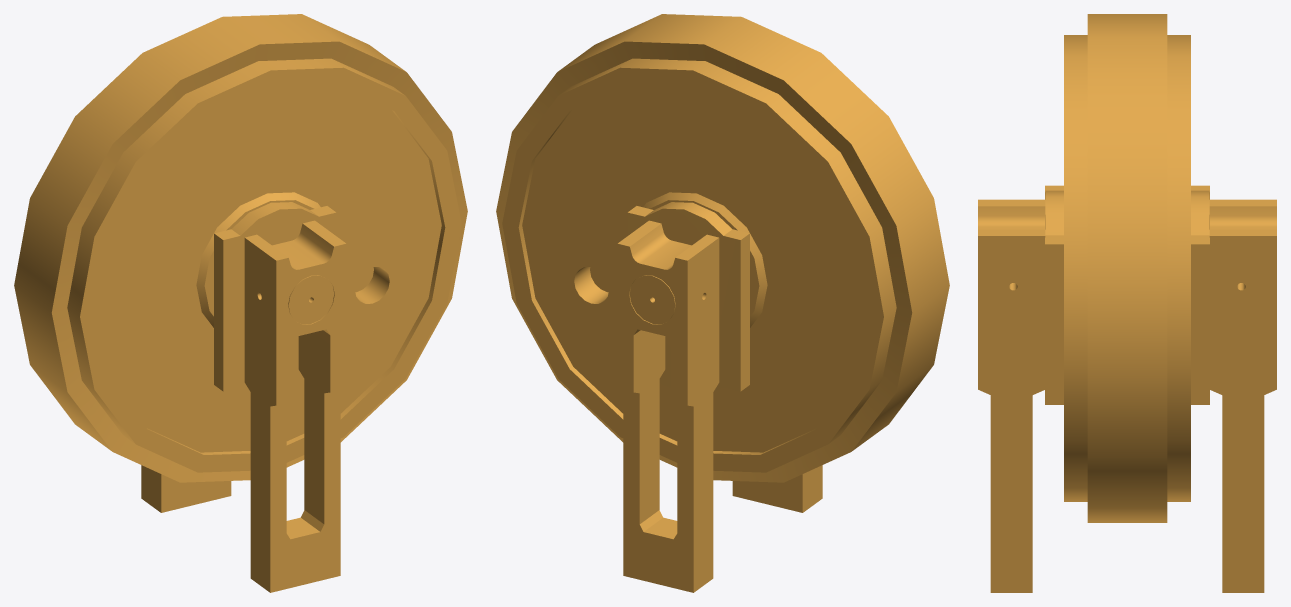
Rendered from Excavator Front Idler.fbx.
3 renders of one model, left to right at view 1: azimuth 30°, elevation 25°; view 2: azimuth 150°, elevation 25°; view 3: azimuth 270°, elevation 25°, orthographic. The views are drawn at different scales.
Parts seen in each view (by area): view 1: Cylinder, Cylinder.002; view 2: Cylinder, Cylinder.002; view 3: Cylinder, Cylinder.002.
Boxes of the visible parts, box(x1,y1,x2,y2) form: Cylinder: box(14, 14, 467, 482); Cylinder.002: box(141, 202, 346, 592); Cylinder: box(496, 14, 949, 482); Cylinder.002: box(617, 202, 822, 592); Cylinder: box(1064, 14, 1190, 522); Cylinder.002: box(978, 185, 1276, 592).
Bounding box in the file's own units: 735 × 855 × 431.
